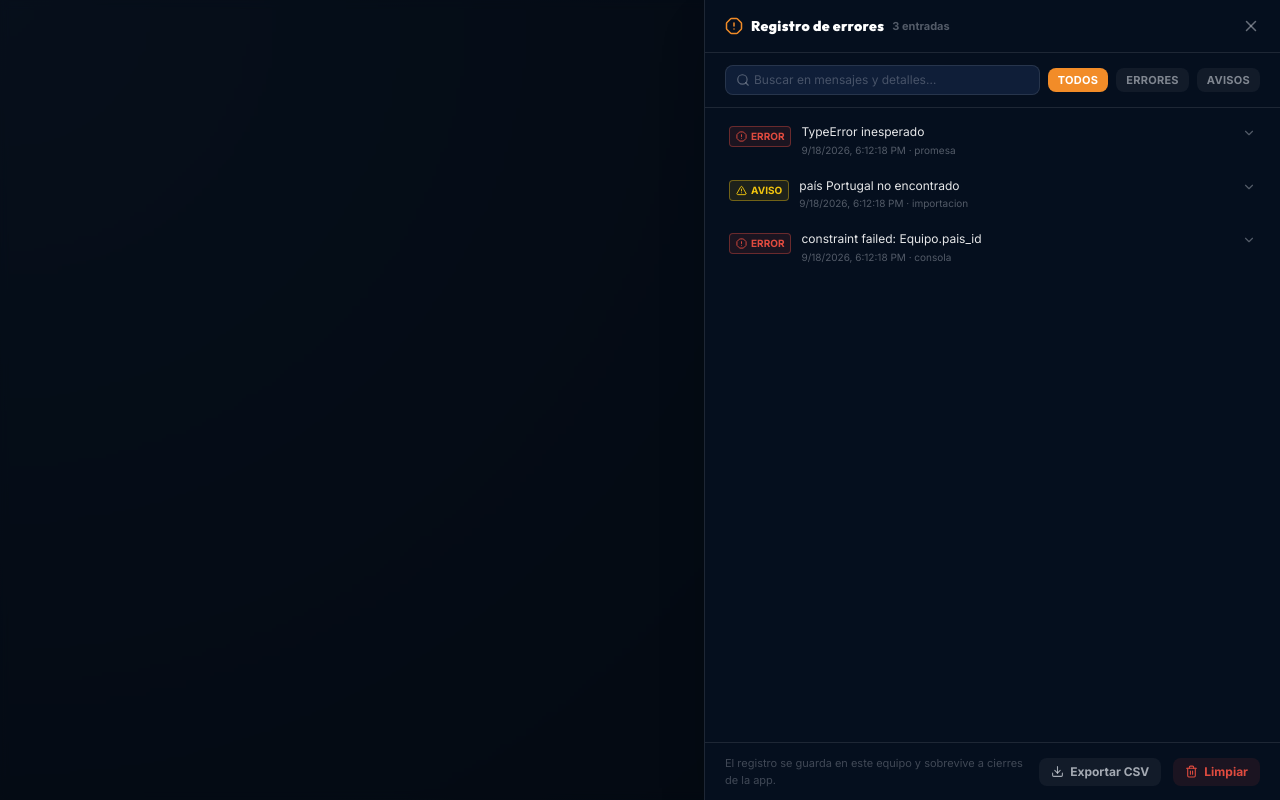
Test case: PanelErrores › la búsqueda estrecha la lista (mensaje, detalle u origen)
In the field with placeholder "Buscar en mensajes y detalles…": {"x": 891, "y": 80} [754,72,1029,88], type "pais_id"
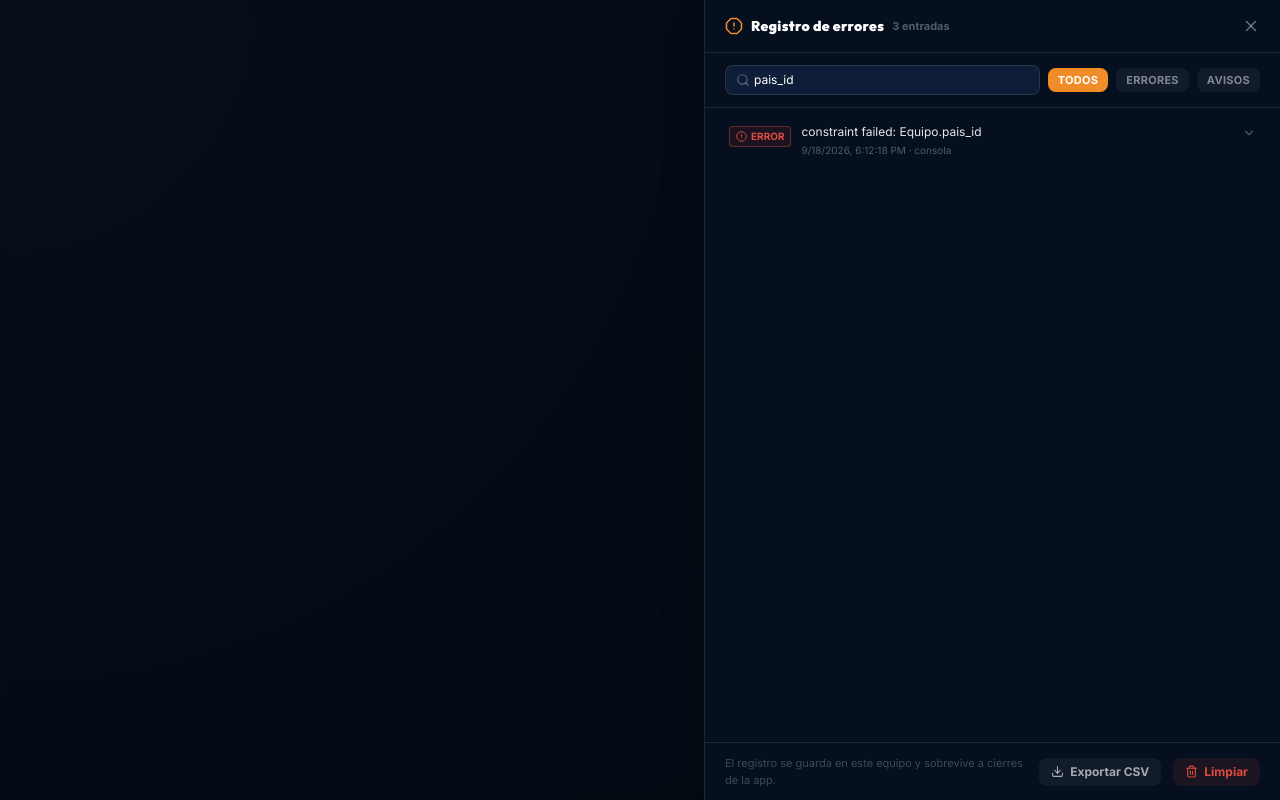
Expected: the text "constraint failed: Equipo.pais_id" is shown, [802,124,982,139]
Expected: the button "país Portugal no encontrado" is gone
Expected: the button "TypeError inesperado" is gone
